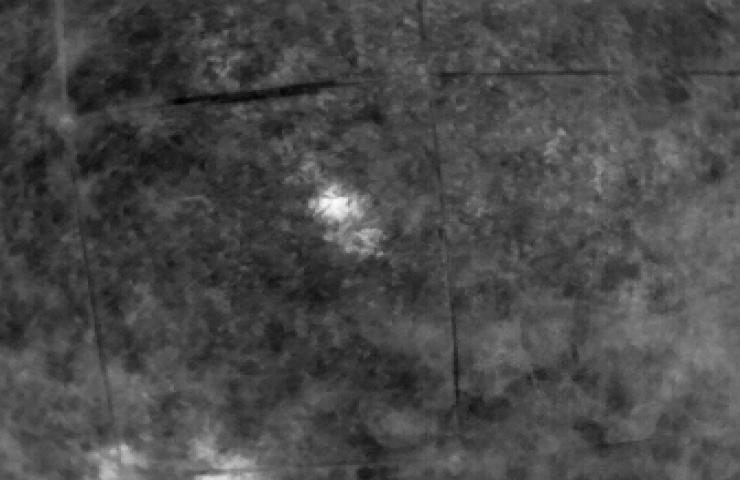landmines: (310, 180, 372, 229)
